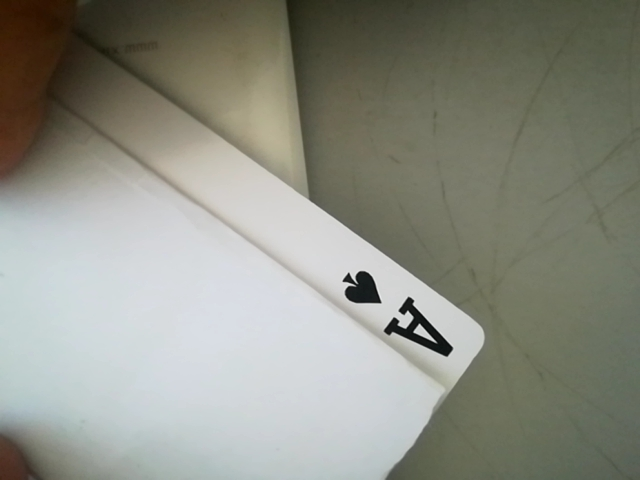ht a: (333, 261, 475, 374)
